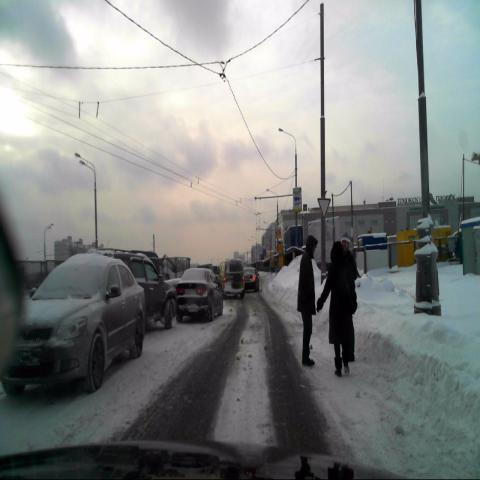2_4: (318, 197, 330, 218)
